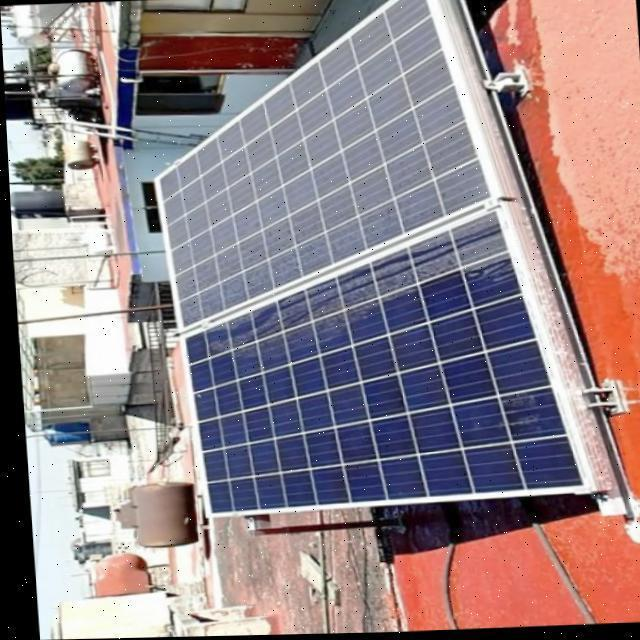Normal Solar Panel: (178, 288, 580, 516)
